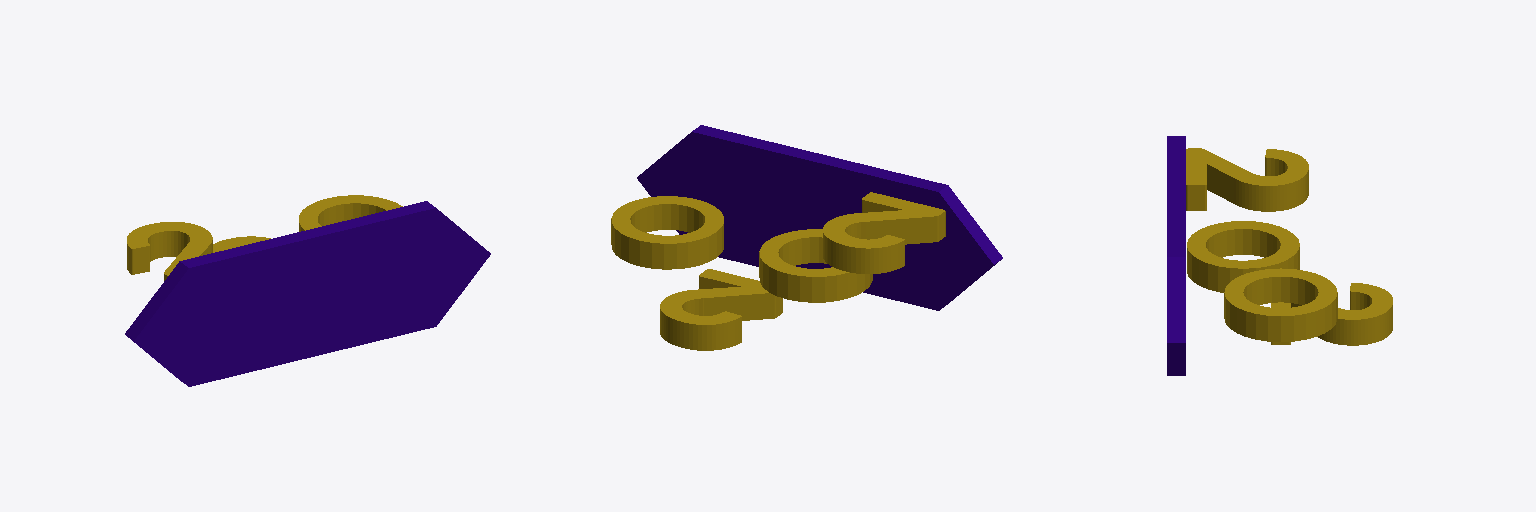
File: stage.obj
3 renders of one model, left to right at view 1: azimuth 30°, elevation 25°; view 2: azimuth 150°, elevation 25°; view 3: azimuth 270°, elevation 25°, orthographic.
Parts seen in each view (by area): view 1: BASE, base_2a, base_0b; view 2: BASE, base_0b, base_2a, base_2b, base_0a; view 3: base_0b, base_2a, base_0a, BASE, base_2b.
Boxes of the visible parts, x1,y1,x2,y2 form: BASE: [125, 201, 490, 386]; base_2a: [127, 222, 212, 280]; base_0b: [299, 195, 402, 231]; BASE: [637, 125, 1002, 310]; base_0b: [611, 196, 723, 269]; base_2a: [823, 192, 945, 273]; base_2b: [660, 269, 782, 350]; base_0a: [759, 229, 872, 302]; base_0b: [1224, 268, 1337, 341]; base_2a: [1186, 148, 1308, 211]; base_0a: [1187, 221, 1299, 292]; BASE: [1167, 136, 1185, 375]; base_2b: [1271, 283, 1392, 345].
Size of the model in its own units: 4.34 by 1.38 by 2.39.